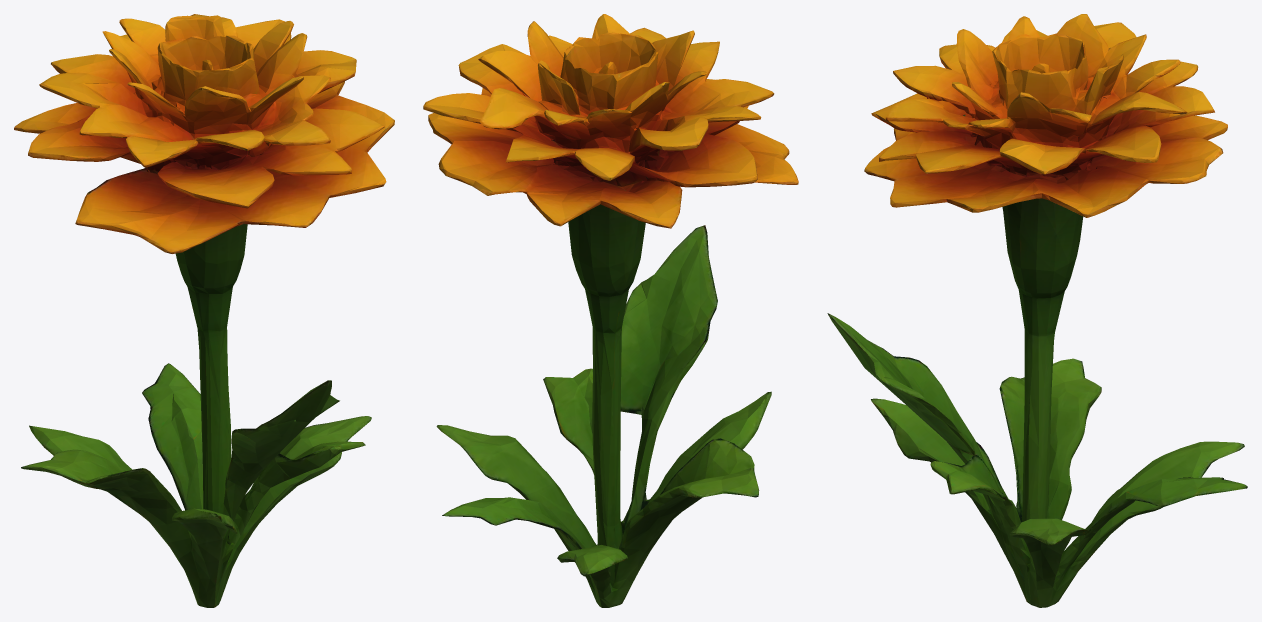
Rendered from desert_marigold.glb.
The picture shows the model from 3 angles, left to right: view 1: azimuth 30°, elevation 25°; view 2: azimuth 150°, elevation 25°; view 3: azimuth 270°, elevation 25°; orthographic projection.
Visible parts, largest first — view 1: world; view 2: world; view 3: world.
Part boxes in pixels (left/top/right/bottom): world: left=14, top=14, right=394, bottom=607; world: left=423, top=14, right=798, bottom=607; world: left=827, top=14, right=1247, bottom=607.
Bounding box in the file's own units: 0.6347 × 1 × 0.6908.
1 material, 1 textured.
